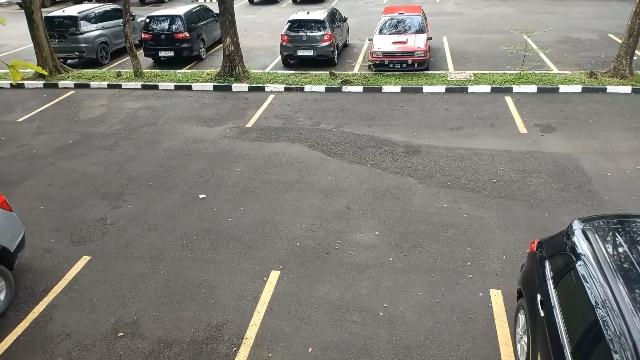empty: (264, 86, 522, 140), (40, 86, 264, 132), (541, 32, 637, 74), (448, 31, 542, 72)
occupied: (272, 20, 362, 74), (138, 15, 220, 72), (361, 22, 447, 75), (46, 14, 124, 70)
